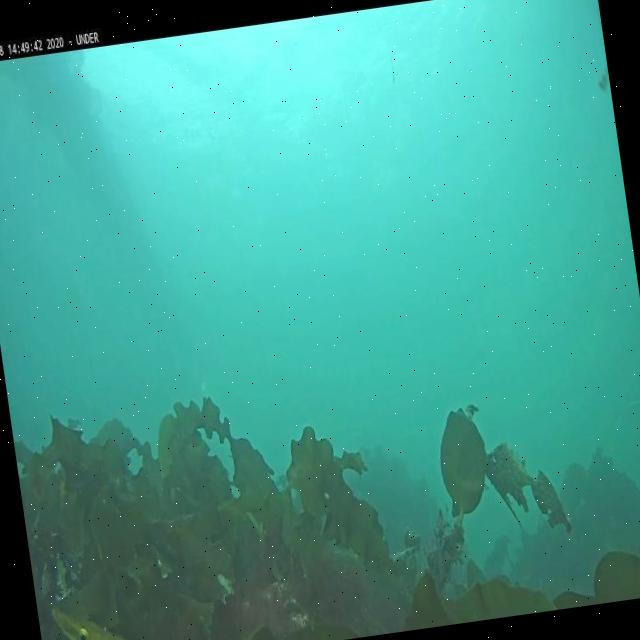fish: (51, 591, 157, 640)
